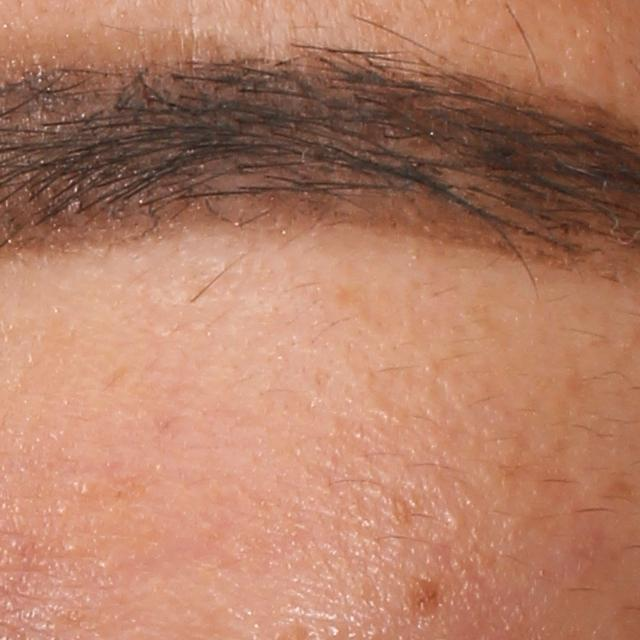comedo: (441, 502, 475, 535)
